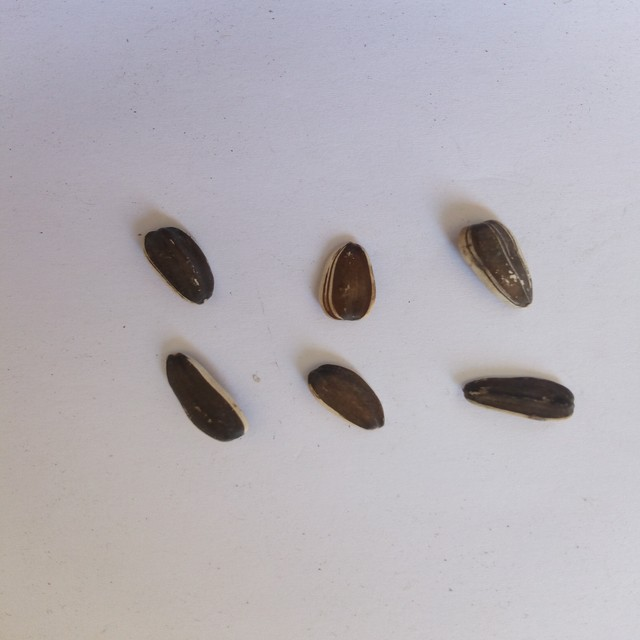girasol: (160, 347, 252, 449), (453, 217, 547, 314), (137, 221, 222, 310), (300, 358, 393, 437), (456, 374, 580, 430), (319, 235, 383, 332)
